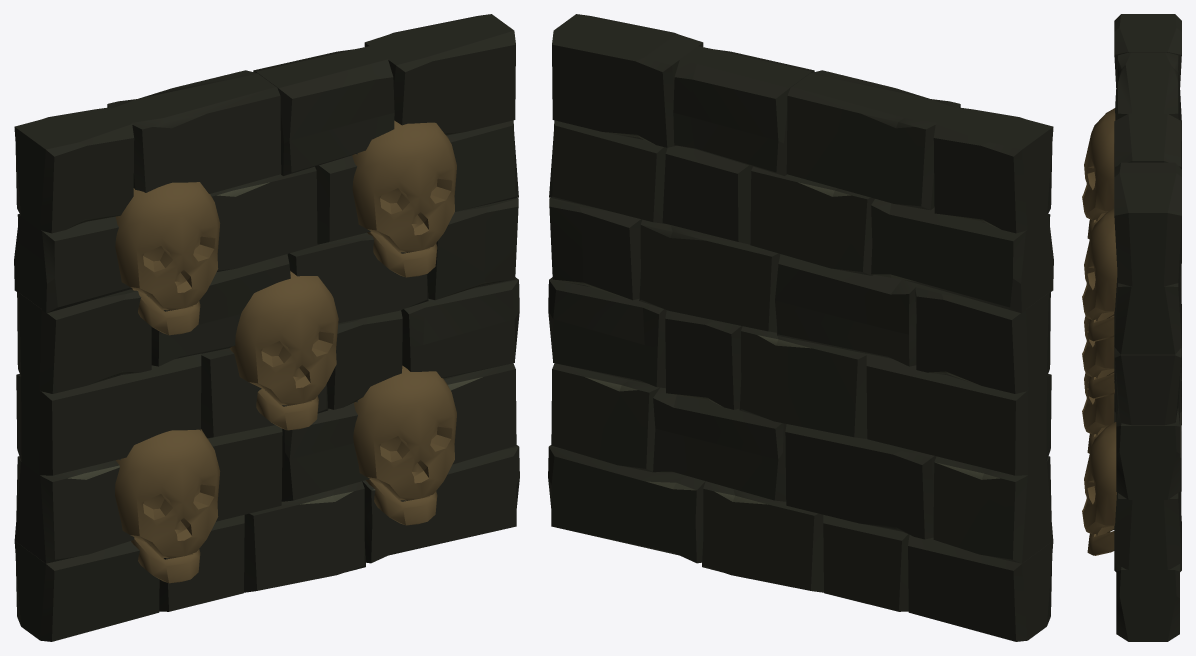
Rendered from Trap_Wall.obj.
3 views of the same model, side by side, from view 1: azimuth 30°, elevation 25°; view 2: azimuth 150°, elevation 25°; view 3: azimuth 270°, elevation 25° (orthographic). The views are drawn at different scales.
Visible parts, largest first — view 1: Wall_Cube.001, Skull_Cylinder.005; view 2: Wall_Cube.001; view 3: Wall_Cube.001, Skull_Cylinder.005.
Boxes of the visible parts, box(x1,y1,x2,y2) form: Wall_Cube.001: box(14, 14, 519, 641); Skull_Cylinder.005: box(115, 120, 456, 583); Wall_Cube.001: box(548, 14, 1053, 641); Wall_Cube.001: box(1114, 14, 1181, 641); Skull_Cylinder.005: box(1082, 108, 1117, 555).
Bounding box in the file's own units: 2 × 2 × 0.4225.
